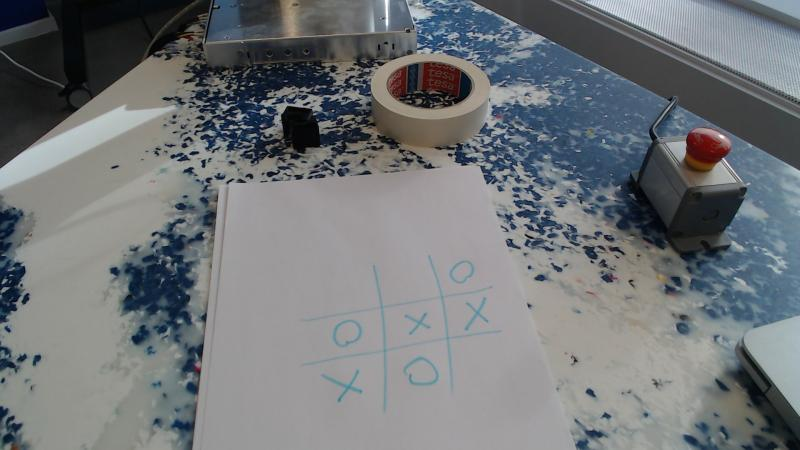O: (400, 351, 446, 387), (324, 316, 374, 346), (442, 253, 483, 287)
X: (316, 360, 370, 408), (397, 304, 444, 339), (455, 298, 495, 331)
grid: (293, 242, 501, 434)
